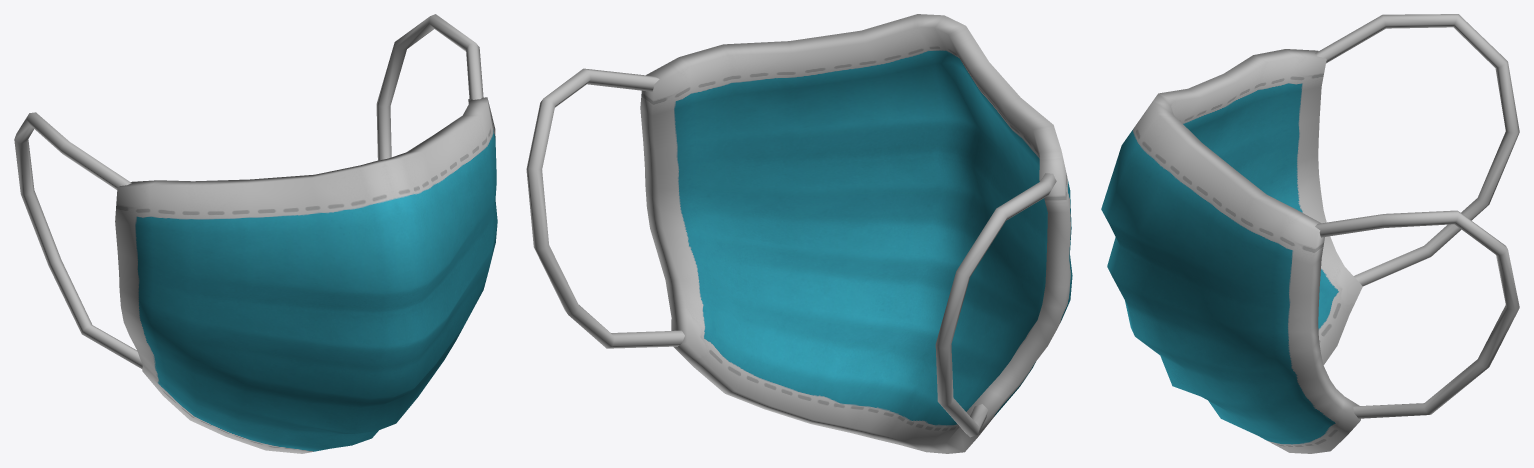
File: mask_blue.fbx
3 views of the same model, side by side, from view 1: azimuth 30°, elevation 25°; view 2: azimuth 150°, elevation 25°; view 3: azimuth 270°, elevation 25° (orthographic). The views are drawn at different scales.
Visible parts, largest first — view 1: mask_blue; view 2: mask_blue; view 3: mask_blue.
Part boxes in pixels (<box>): mask_blue: <box>14,14,497,453</box>; mask_blue: <box>526,14,1072,453</box>; mask_blue: <box>1101,14,1519,453</box>.
Bounding box in the file's own units: 0.8779 × 0.6631 × 0.7566.
